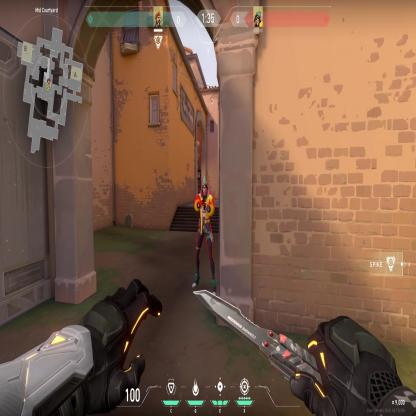enemy: (191, 174, 216, 290)
